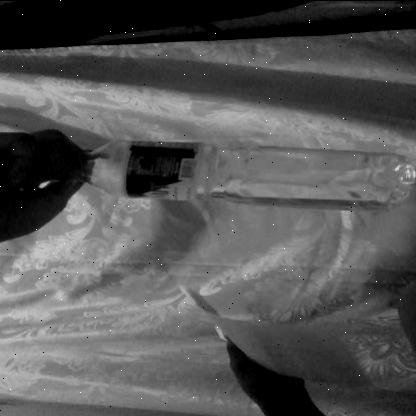Plastic Bottle: (52, 129, 416, 217)
